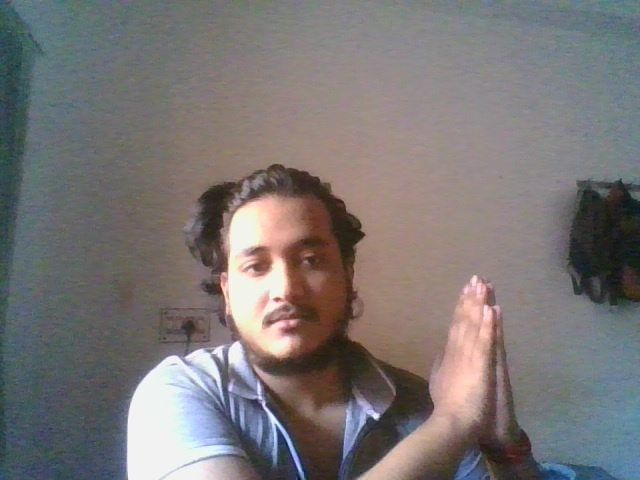ThankYou: (429, 275, 516, 457)
